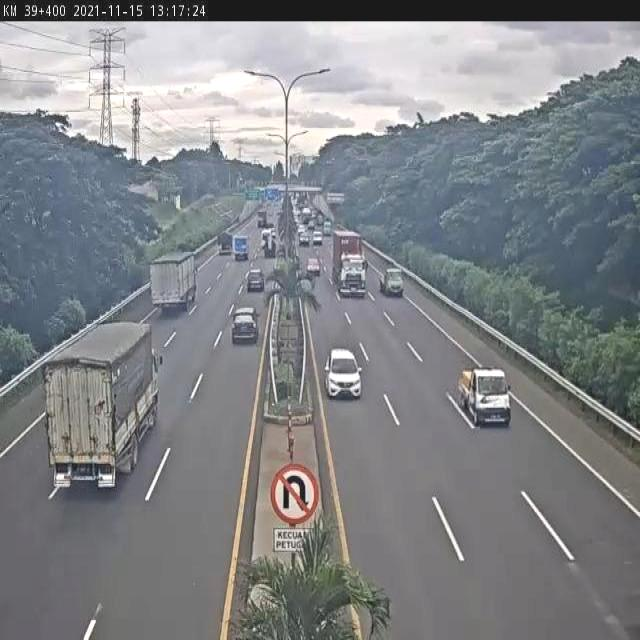Car: (323, 334, 367, 407), (229, 298, 262, 351), (303, 252, 324, 291), (244, 258, 265, 296)
Truck: (29, 320, 163, 524), (458, 336, 514, 439), (146, 235, 201, 314), (334, 206, 372, 300), (380, 250, 408, 304)
